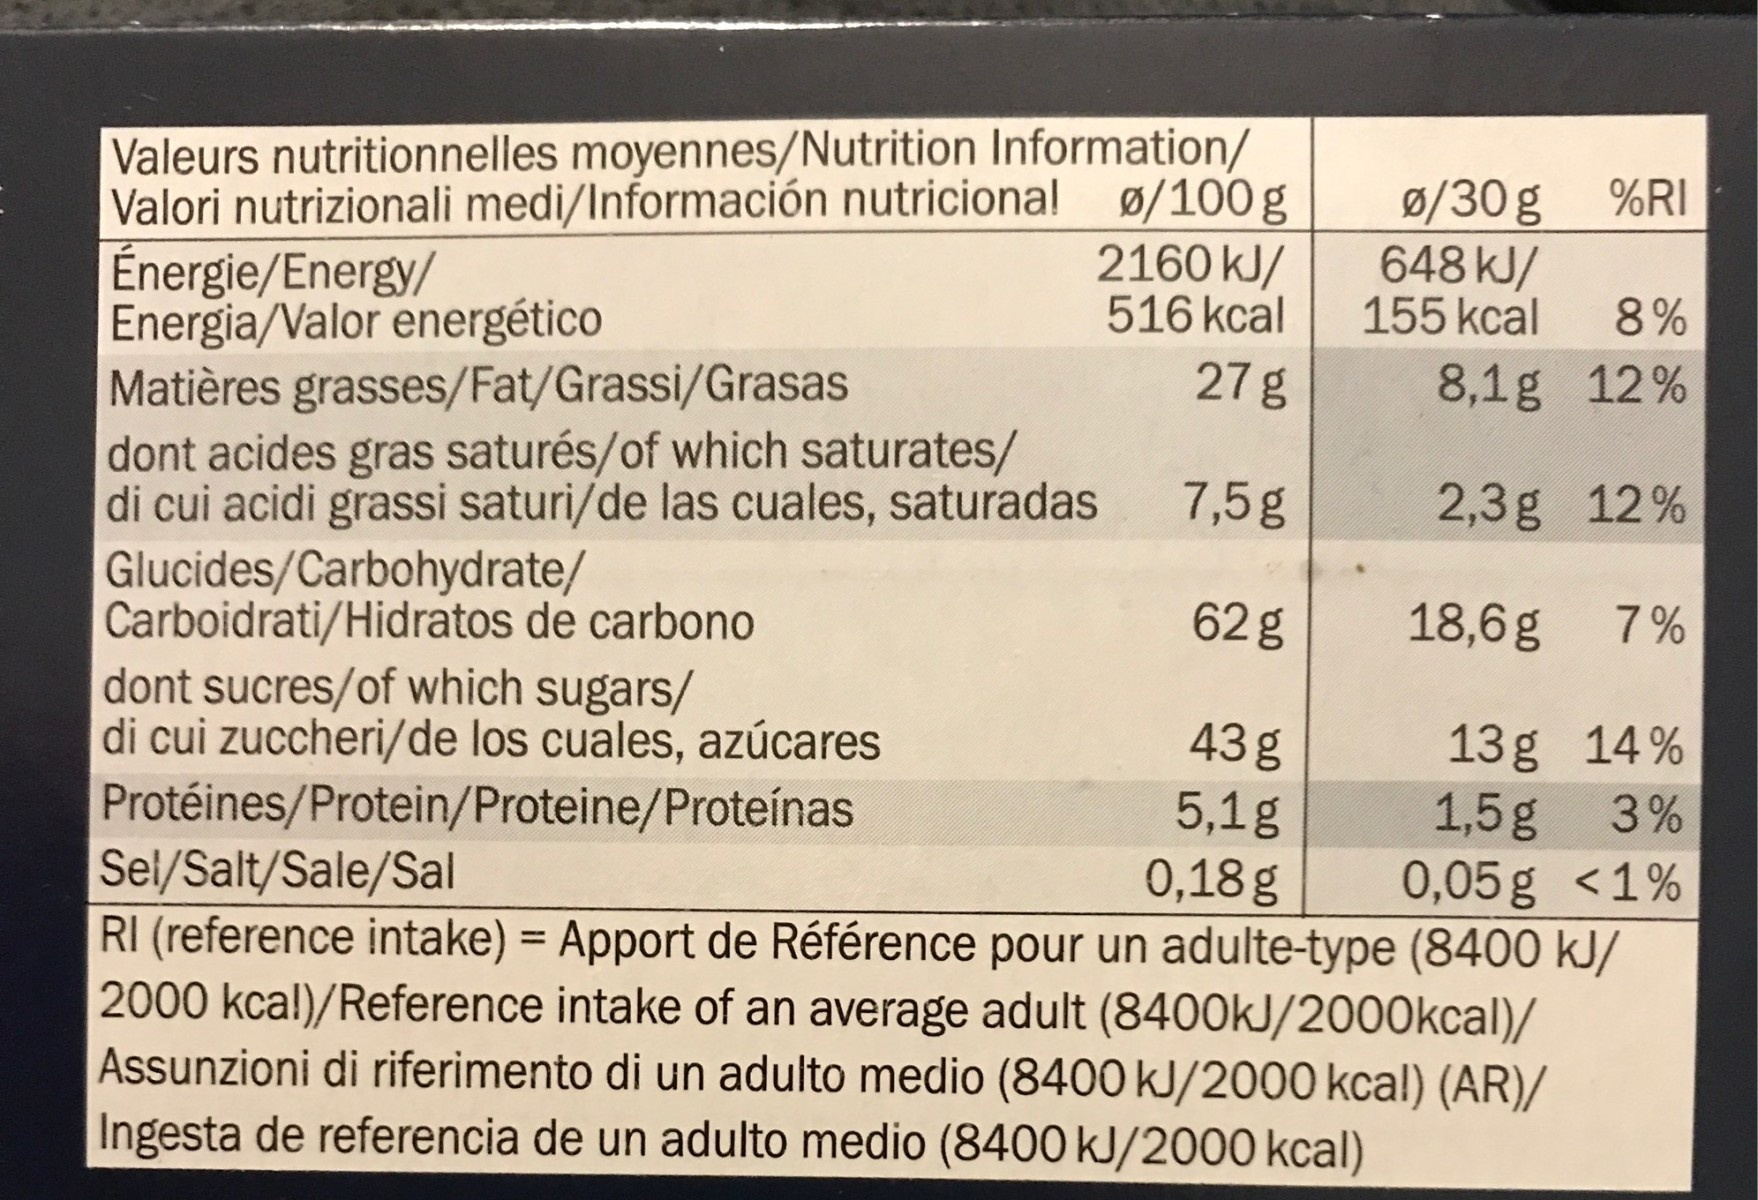column: (100, 122, 1305, 913), (1314, 116, 1566, 915), (1578, 122, 1697, 915)
table: (106, 128, 1693, 921)
